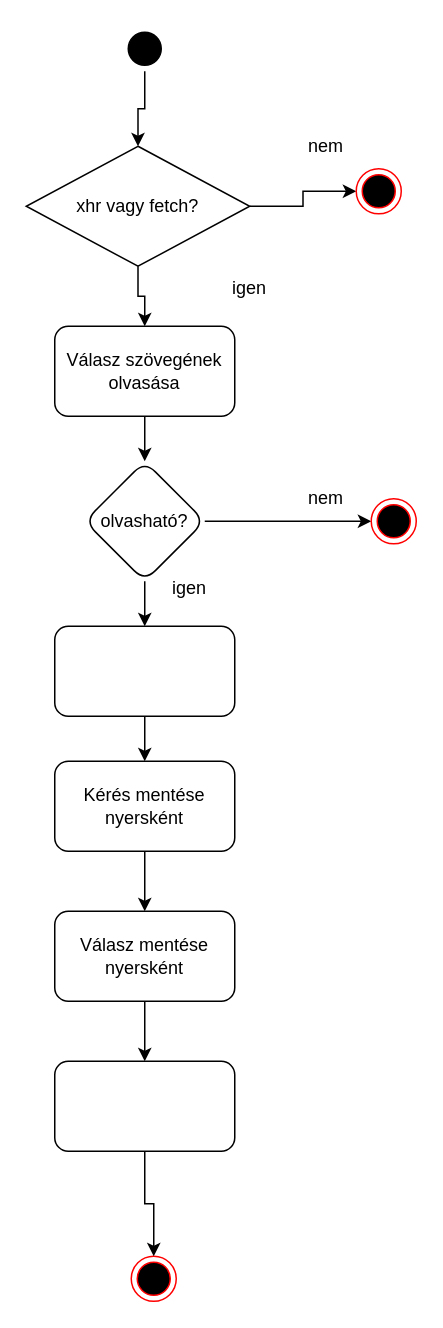
This 443x1328 diagram has some shape labels left out. The centre of each missing label's shape, as x and y in pixels:
Hozzáadás a találatlistához: point 144,1105
Kérés jegyzetének összeállítása: point 144,670
